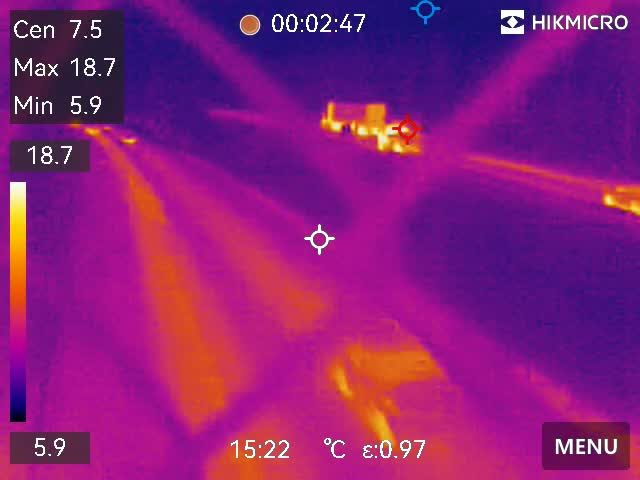heavyTruck: (317, 90, 388, 139)
